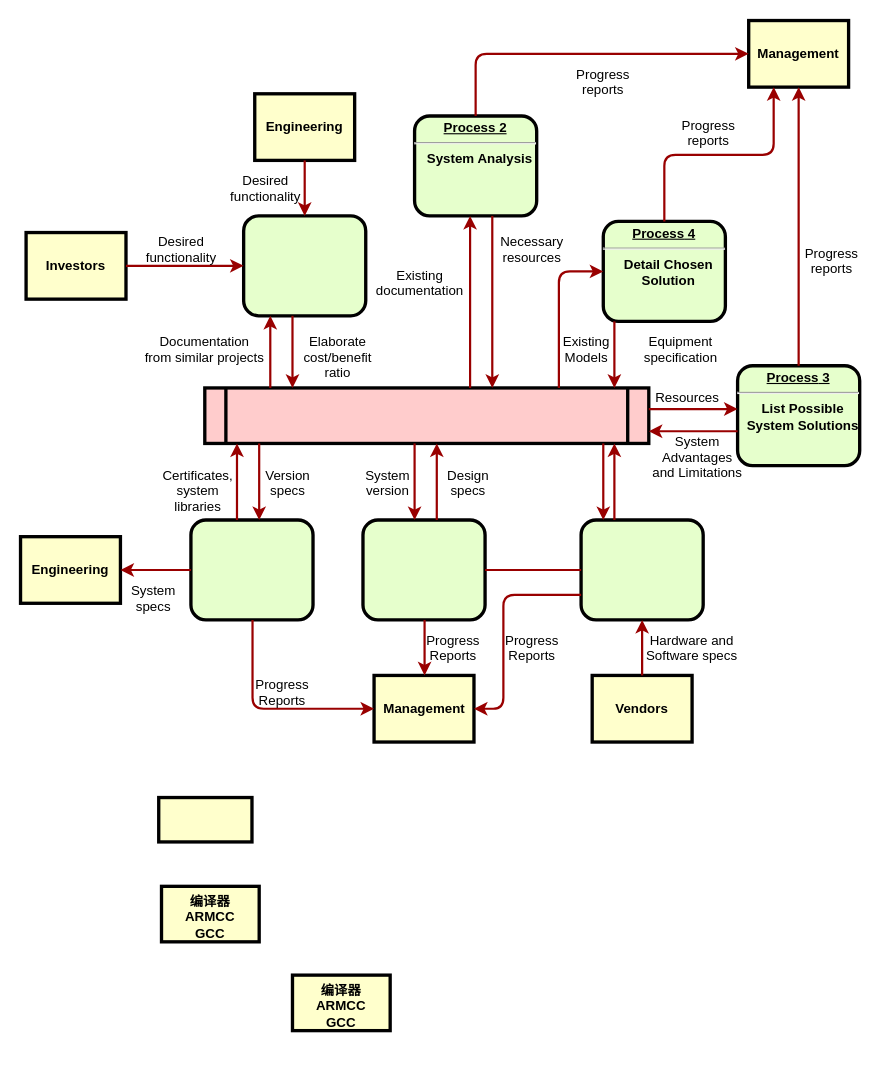
This 880x1067 diagram has some shape labels left out. The shapes that lost their labels are listed below. From the top down, each one's centre as x and y in pixels, then its label:
At (304,265): "Process 1 System Study Preparation".
At (426,415): "ON-DEMAND SYSTEM DEVELOPMENT".
At (251,569): "Process 6 New System Construction".
At (423,569): "Process 7 New System Startup and Testing".
At (641,569): "Process 5 New System Design".
At (205,819): "IDE".
